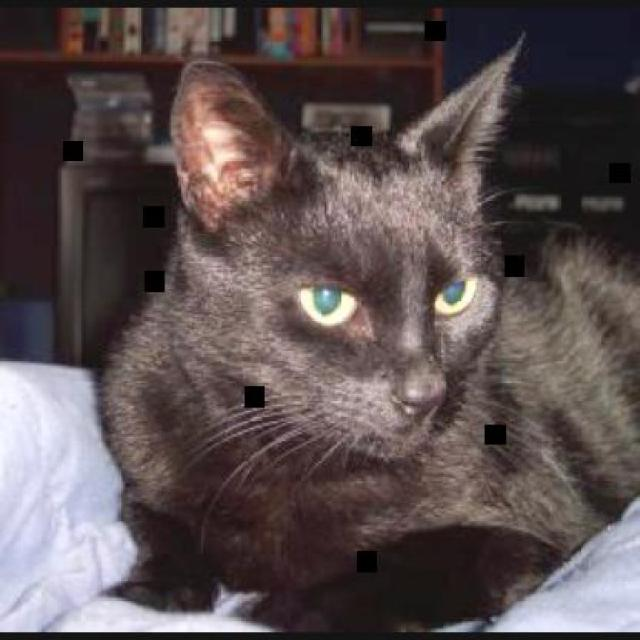unauthorized: (94, 30, 638, 632)
